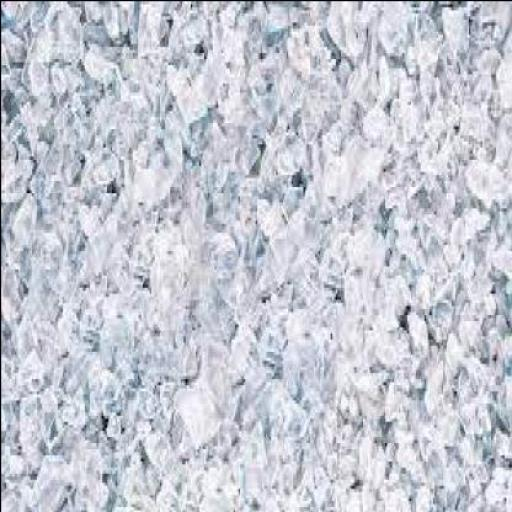glass: (0, 2, 511, 511), (380, 134, 512, 511), (2, 2, 98, 511), (145, 92, 313, 381), (34, 274, 210, 496), (200, 3, 374, 214), (249, 143, 403, 381), (332, 338, 492, 511), (374, 2, 510, 204), (208, 308, 394, 454), (228, 353, 369, 511), (52, 143, 205, 287), (85, 76, 198, 268), (92, 27, 198, 183), (437, 274, 511, 476), (63, 2, 336, 31)
